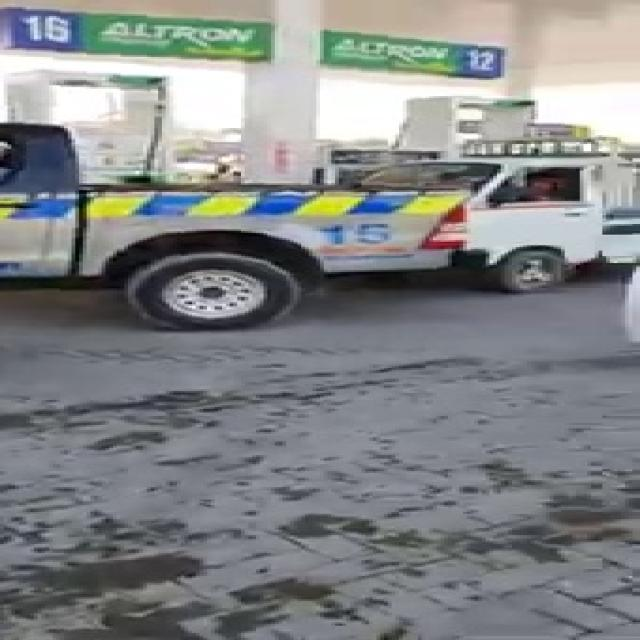police: (0, 125, 494, 301)
